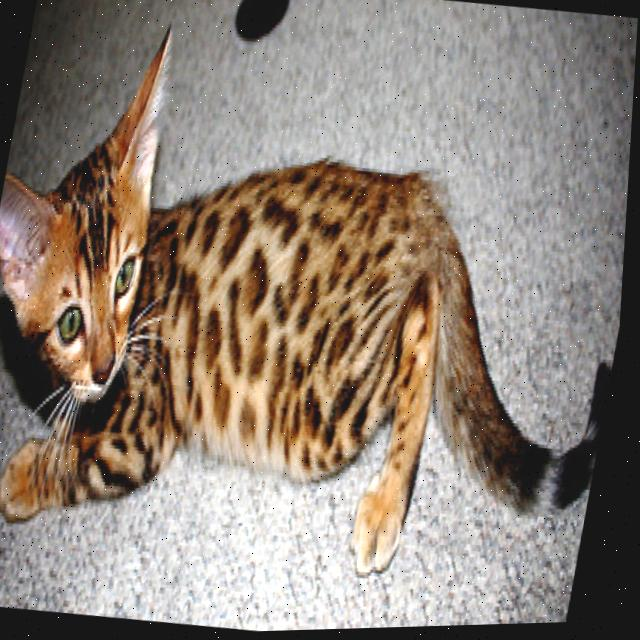Bengal: (0, 0, 640, 627)
